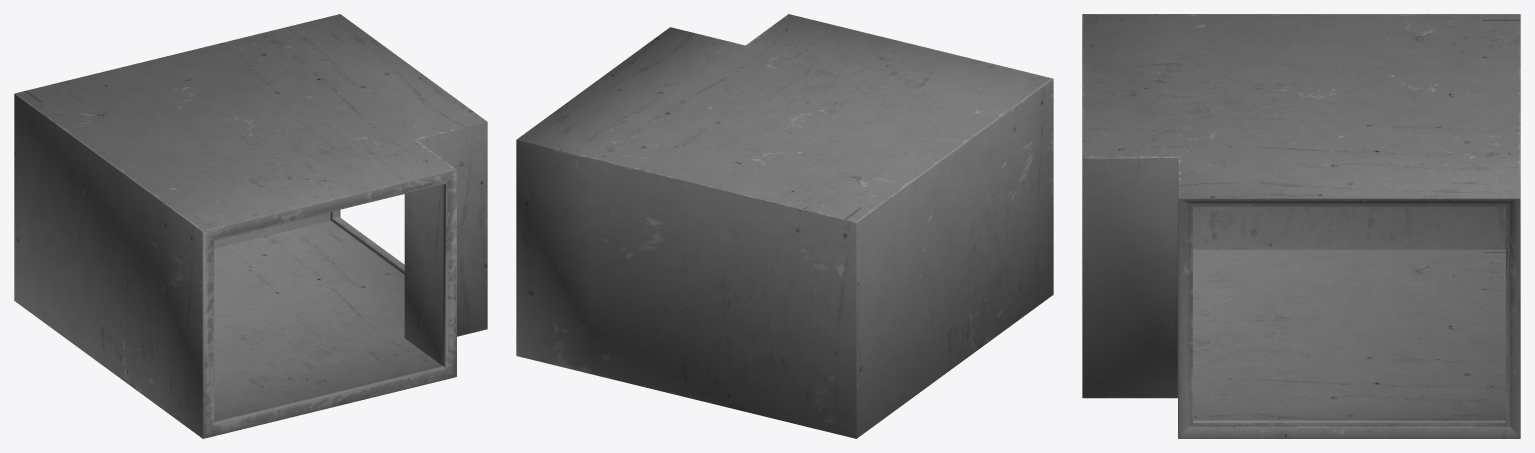
Rendered from airvent_03.gltf.
3 renders of one model, left to right at view 1: azimuth 30°, elevation 25°; view 2: azimuth 150°, elevation 25°; view 3: azimuth 270°, elevation 25°, orthographic. The views are drawn at different scales.
Visible parts, largest first — view 1: airvent_03; view 2: airvent_03; view 3: airvent_03.
Boxes of the visible parts, bbox=[...] form: airvent_03: bbox=[14, 14, 487, 438]; airvent_03: bbox=[516, 14, 1053, 438]; airvent_03: bbox=[1082, 14, 1520, 438].
Size of the model in its own units: 0.9976 by 0.6063 by 1.
Materials: 1 (1 with a texture image).
